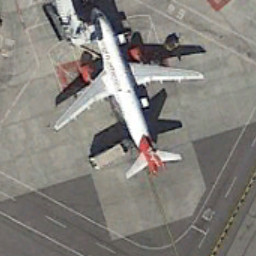Airplane: (40, 5, 210, 188)
